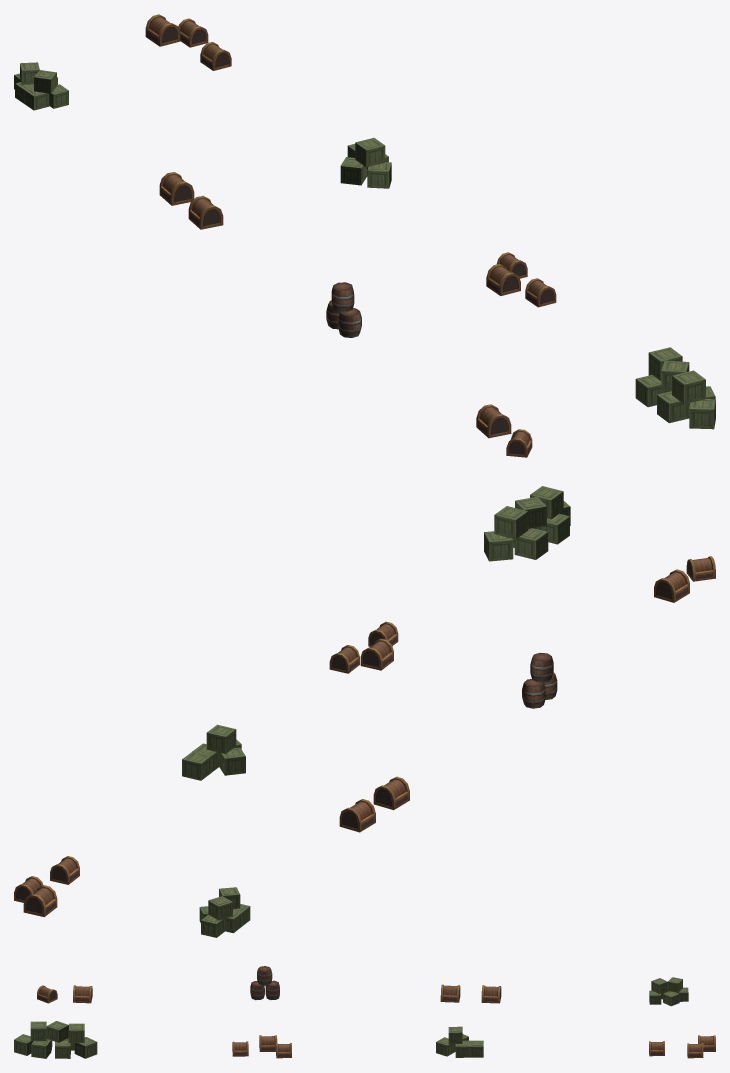
Rendered from wujian27.fbx.
3 renders of one model, top to bottom at view 1: azimuth 30°, elevation 25°; view 2: azimuth 150°, elevation 25°; view 3: azimuth 270°, elevation 25°, orthographic. The views are drawn at different scales.
Parts seen in each view (by area): view 1: wujian27; view 2: wujian27; view 3: wujian27.
Boxes of the visible parts, x1,y1,x2,y2 form: wujian27: (14, 14, 715, 457); wujian27: (14, 486, 715, 937); wujian27: (14, 966, 715, 1058).
Size of the model in its own units: 1177 by 239 by 5332.
1 material, 1 textured.
